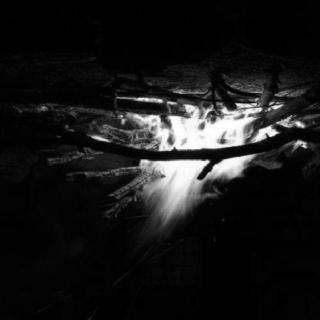Fire: (44, 64, 310, 258)
